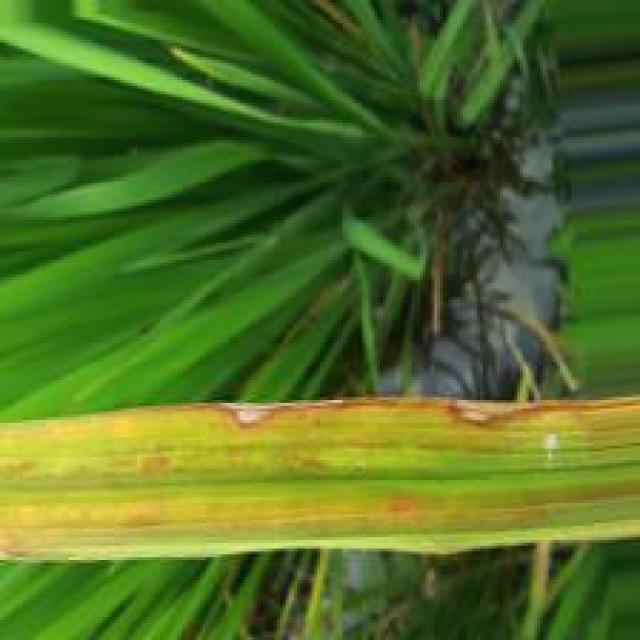Leaf_Blast: (221, 399, 637, 432)
